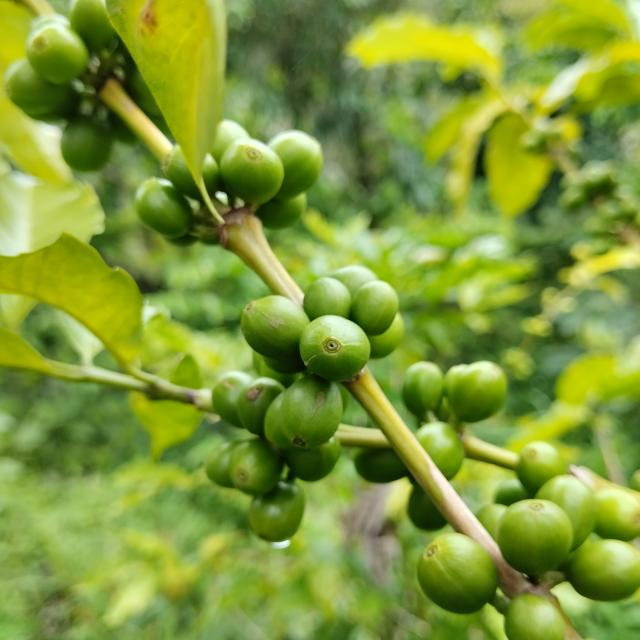green: (418, 534, 499, 615), (496, 500, 574, 575), (299, 315, 371, 382), (536, 475, 599, 551), (280, 374, 343, 448), (567, 540, 640, 602), (241, 295, 310, 360), (220, 138, 284, 207), (268, 129, 323, 200), (134, 177, 193, 238), (416, 422, 465, 481), (350, 280, 399, 336), (506, 595, 566, 640), (304, 277, 351, 320), (368, 312, 404, 359), (330, 265, 378, 296)
